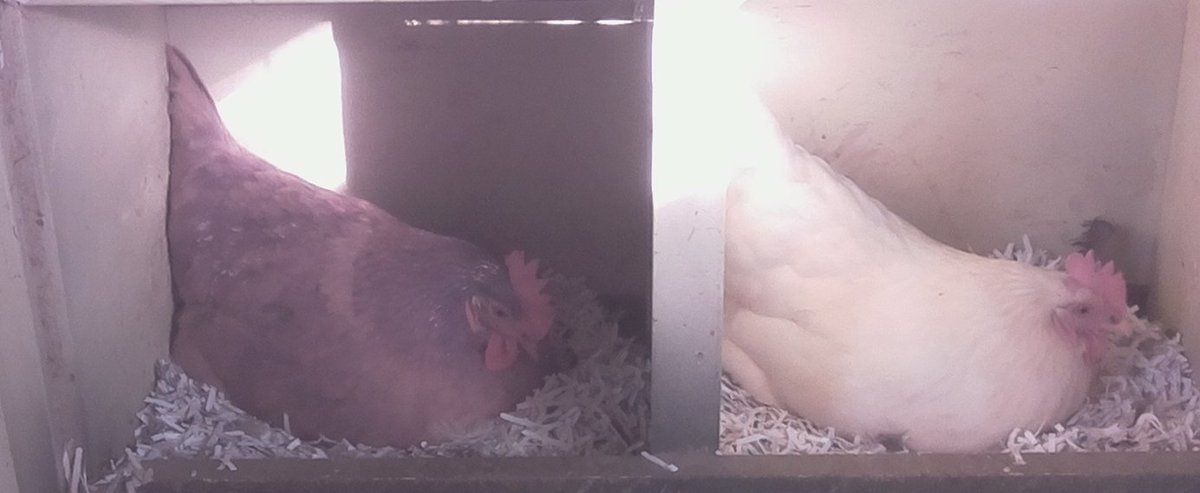hen: (163, 64, 586, 456), (729, 118, 1142, 450)
